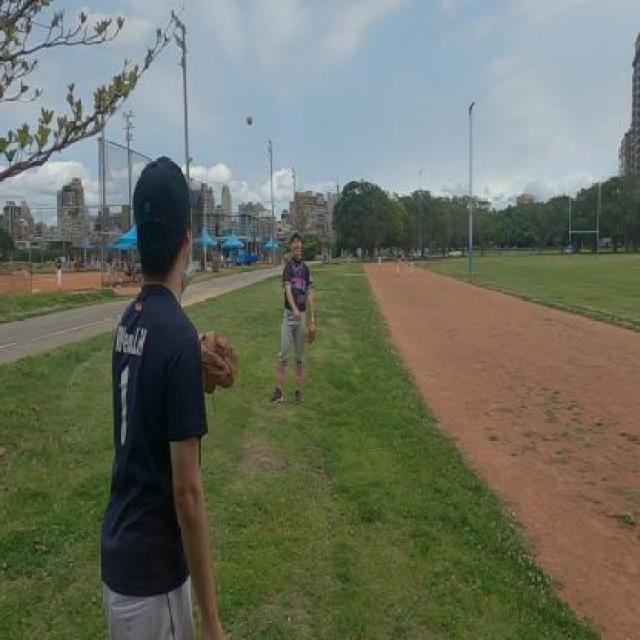baseball: (247, 114, 253, 126)
